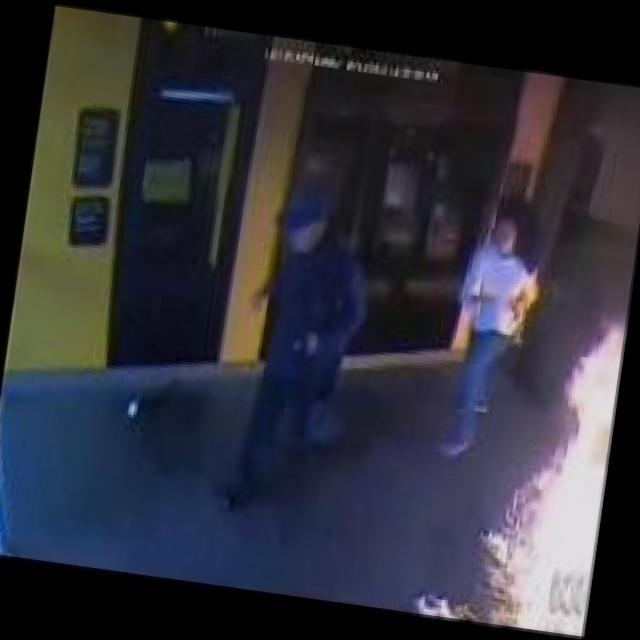fire: (446, 309, 640, 640)
